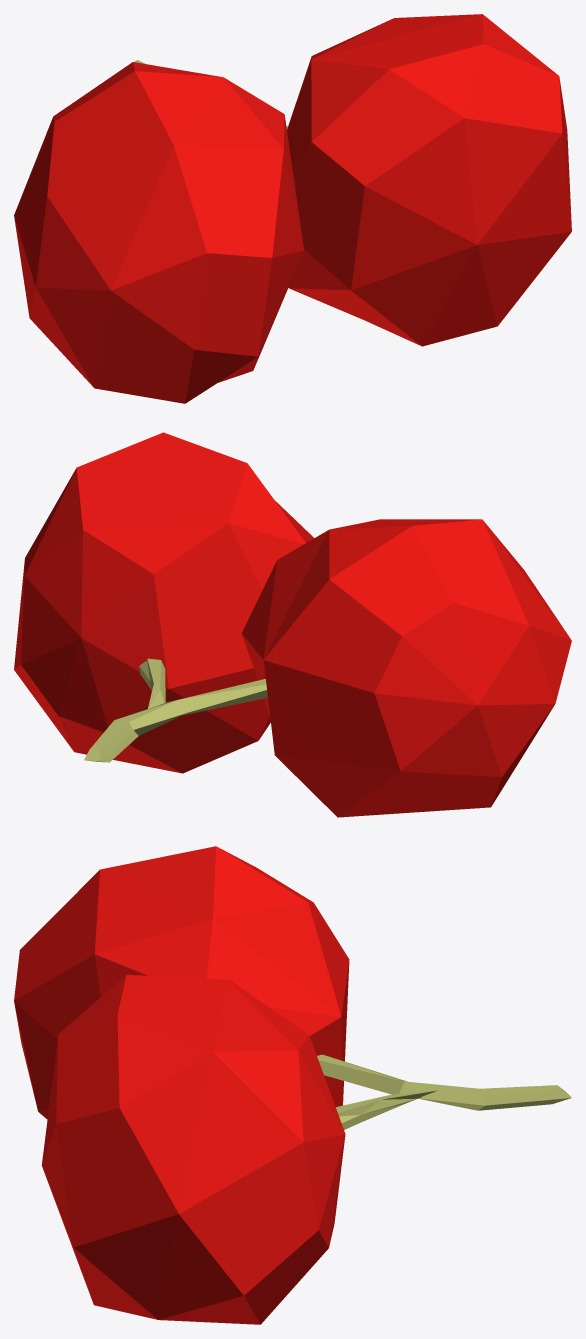
Rendered from GuoShi.fbx.
The picture shows the model from 3 angles, top to bottom: view 1: azimuth 30°, elevation 25°; view 2: azimuth 150°, elevation 25°; view 3: azimuth 270°, elevation 25°; orthographic projection. The views are drawn at different scales.
Parts seen in each view (by area): view 1: guozi; view 2: guozi; view 3: guozi.
Part boxes in pixels (<box>): guozi: <box>14,14,571,403</box>; guozi: <box>14,432,571,817</box>; guozi: <box>14,846,571,1324</box>.
Bounding box in the file's own units: 14.44 × 8.08 × 12.34.
